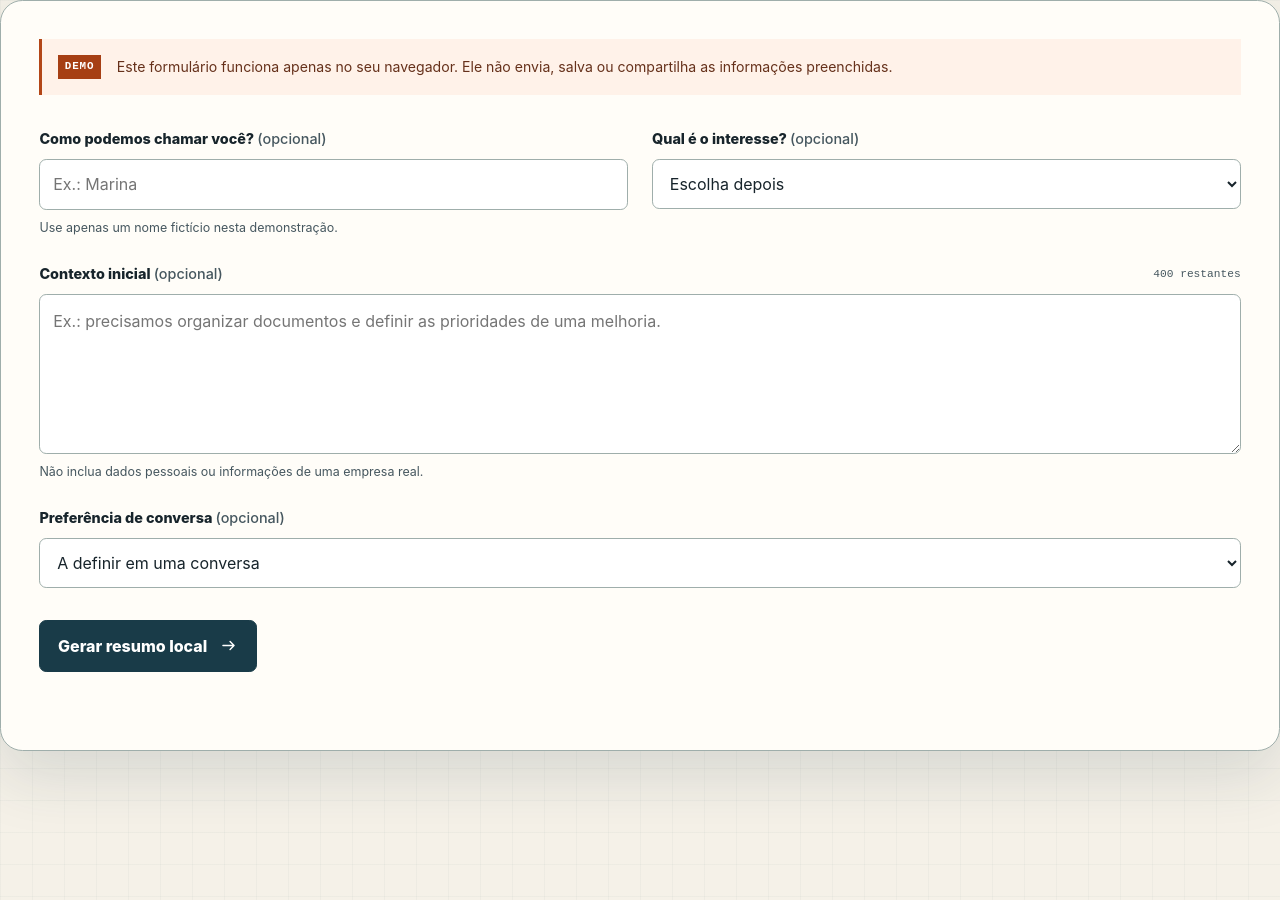
Test case: QuoteRequest › mostra um erro acessível sem gerar resultado
This screenshot has width=1280, height=900.
In the text box labelled "Contexto inicial (opcional)": (640, 374) top-left (39, 294), bottom-right (1241, 454), type "curto"
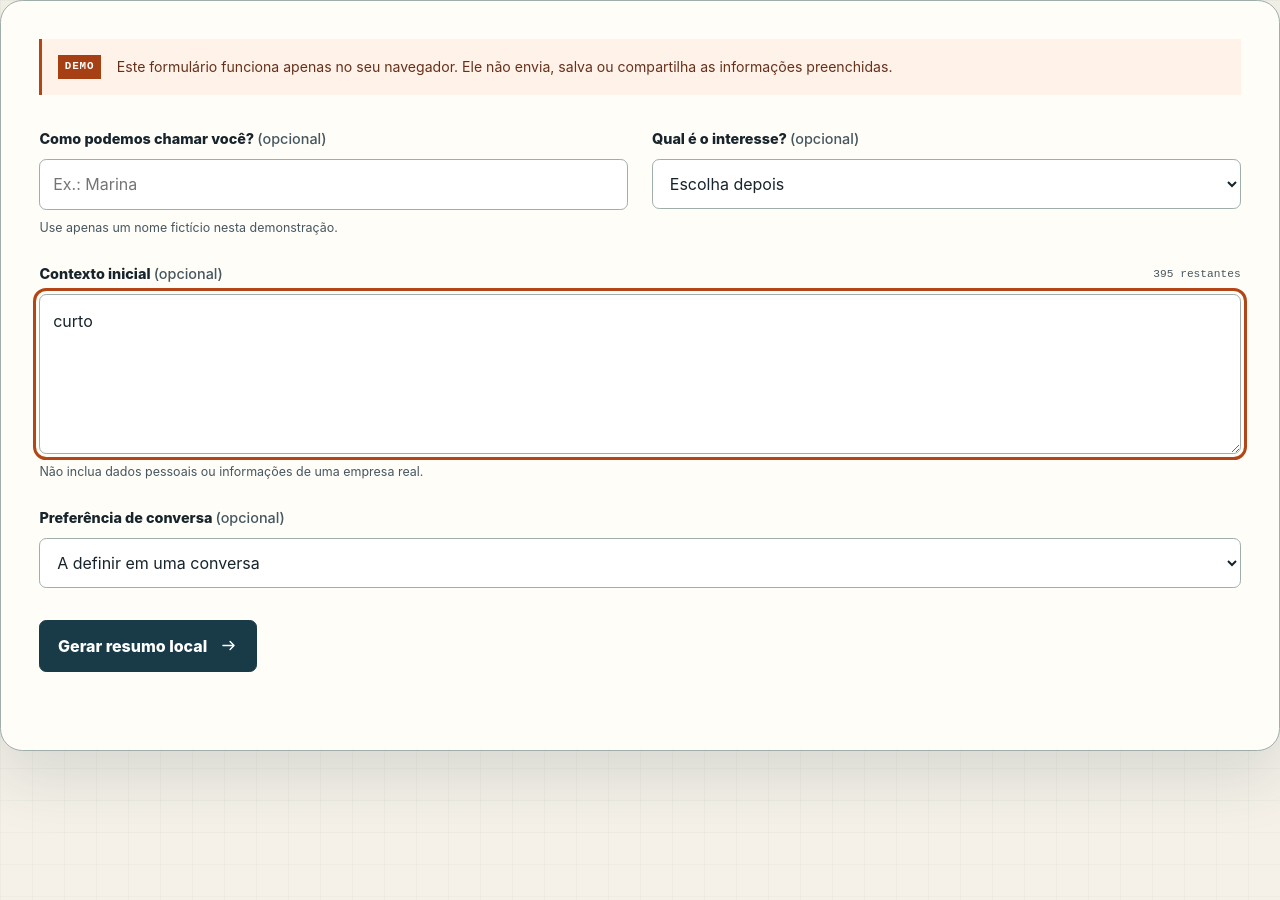
Click the button "Gerar resumo local": click(148, 646) top-left (39, 620), bottom-right (257, 672)
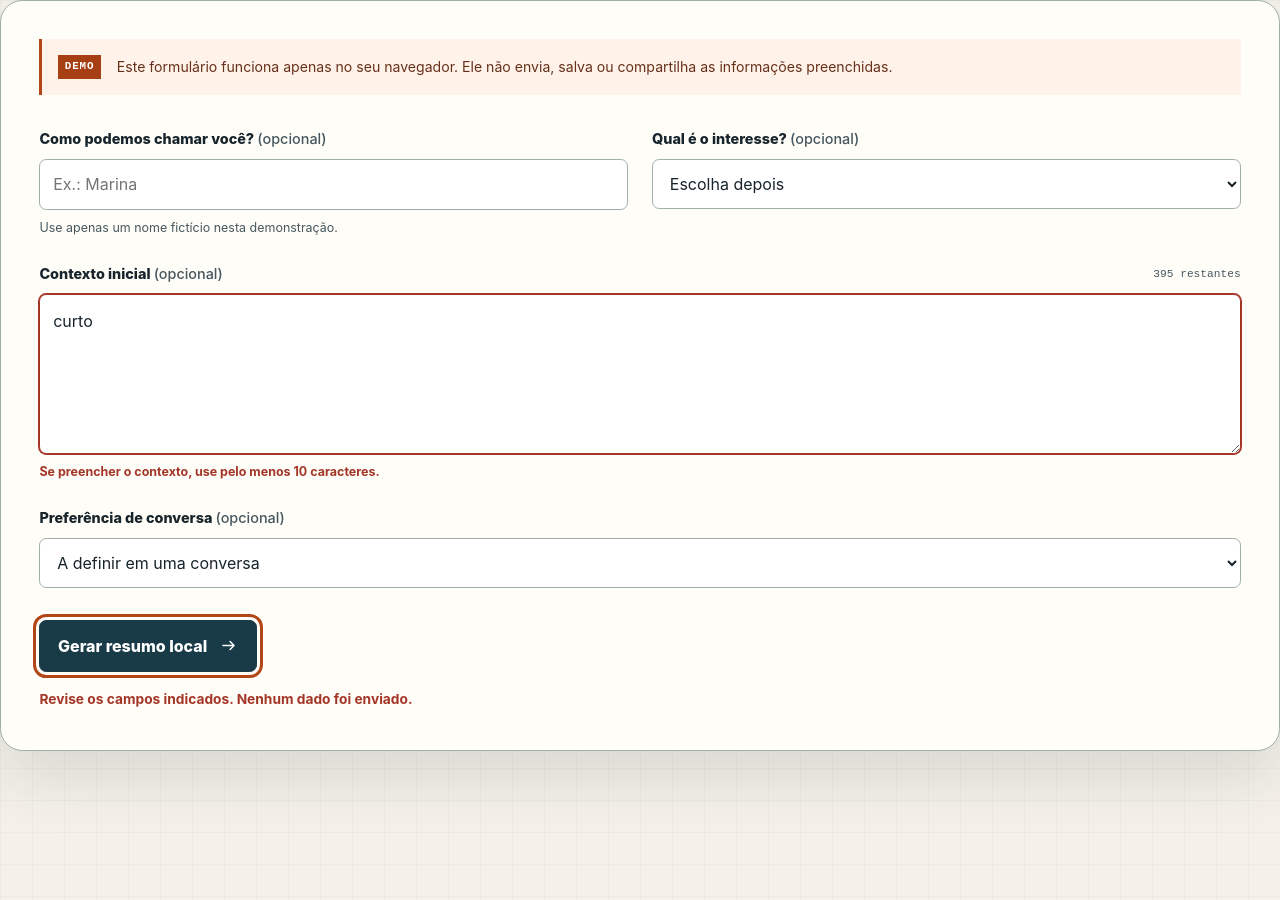
Expected: the text "Se preencher o contexto, use pelo menos 10 caracteres." is shown, top-left (39, 464), bottom-right (380, 478)
